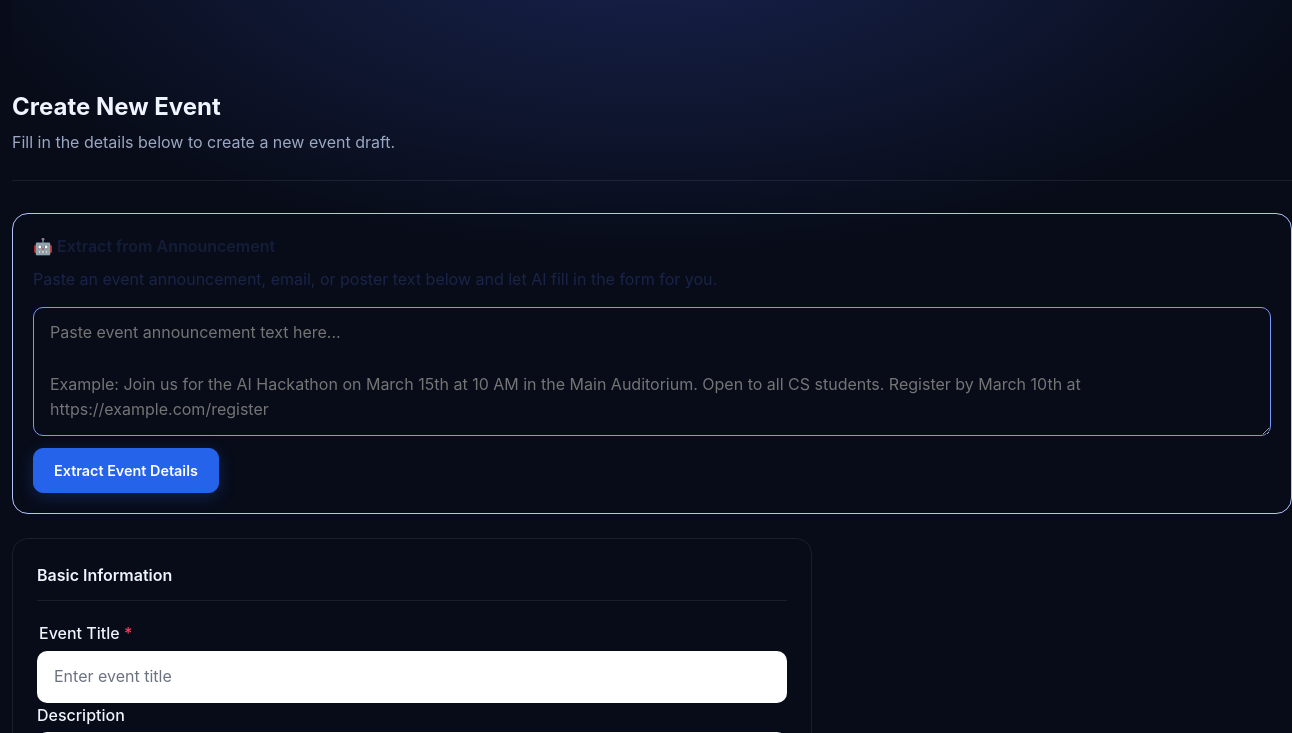
Test: CreateEventPage AI extraction description mapping › Other extracted fields continue to populate correctly
Replace the text in the text box with placeholder "Paste event announcement text" with "Some announcement text" at (652, 372), box x1=33 y1=307 x2=1271 y2=436
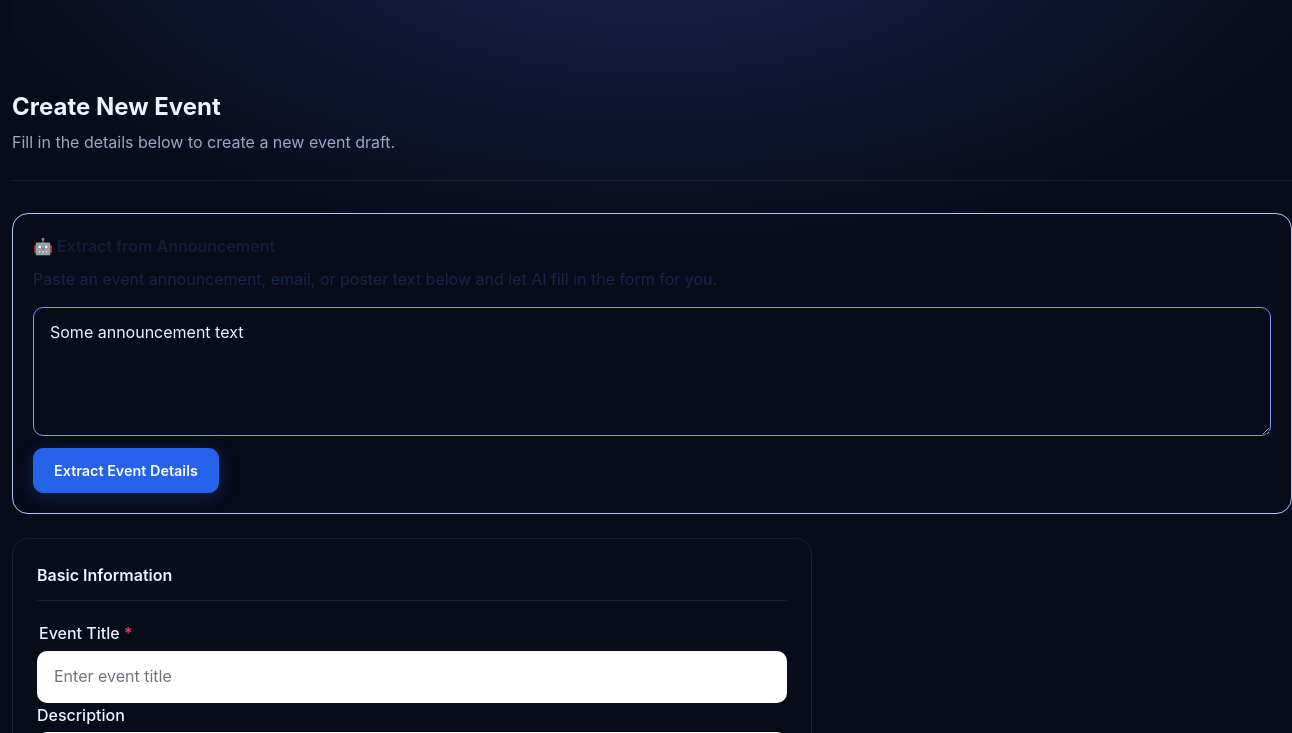
Click the button "Extract Event Details" at (126, 470), box x1=33 y1=448 x2=219 y2=493
(page scrolled)
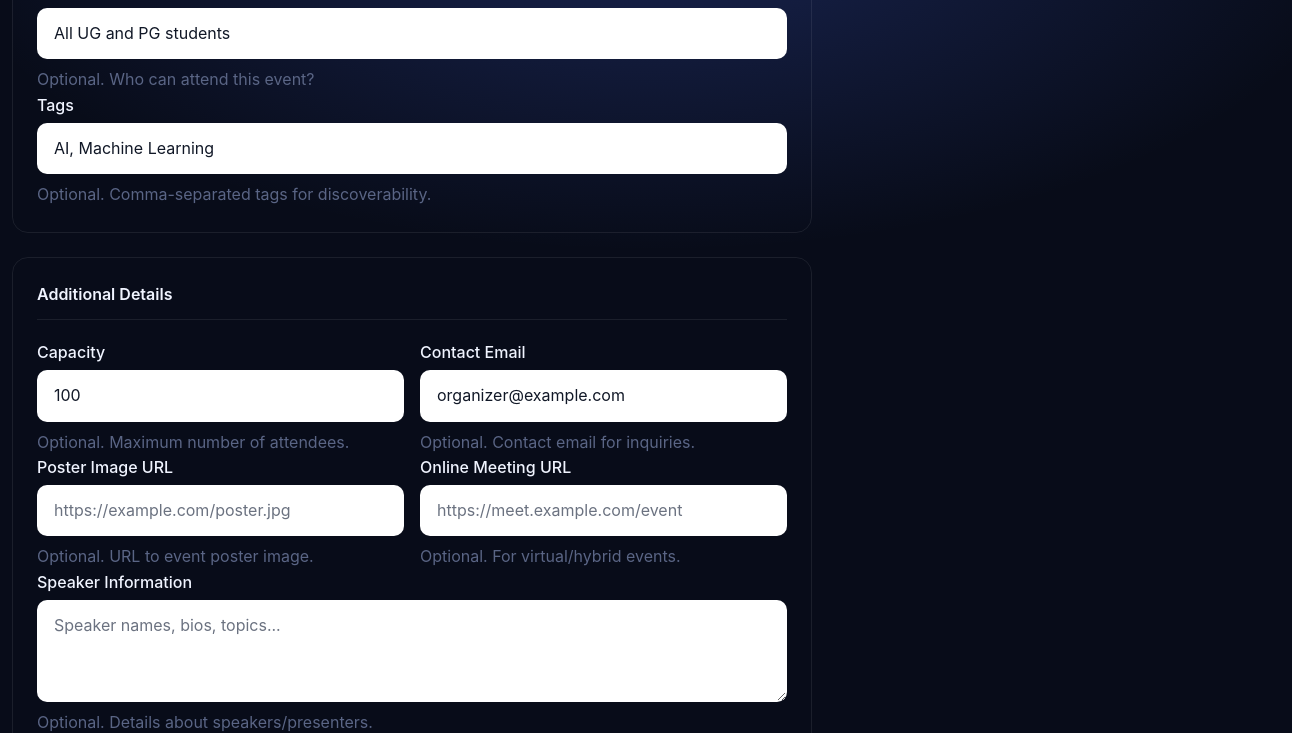
Check: the field labelled "Tags" holds "AI, Machine Learning", box x1=37 y1=123 x2=787 y2=174
Check: the field labelled "Eligibility / Target Audience" holds "All UG and PG students", box x1=37 y1=8 x2=787 y2=60
Check: the number field labelled "Capacity" holds "100", box x1=37 y1=370 x2=404 y2=422
